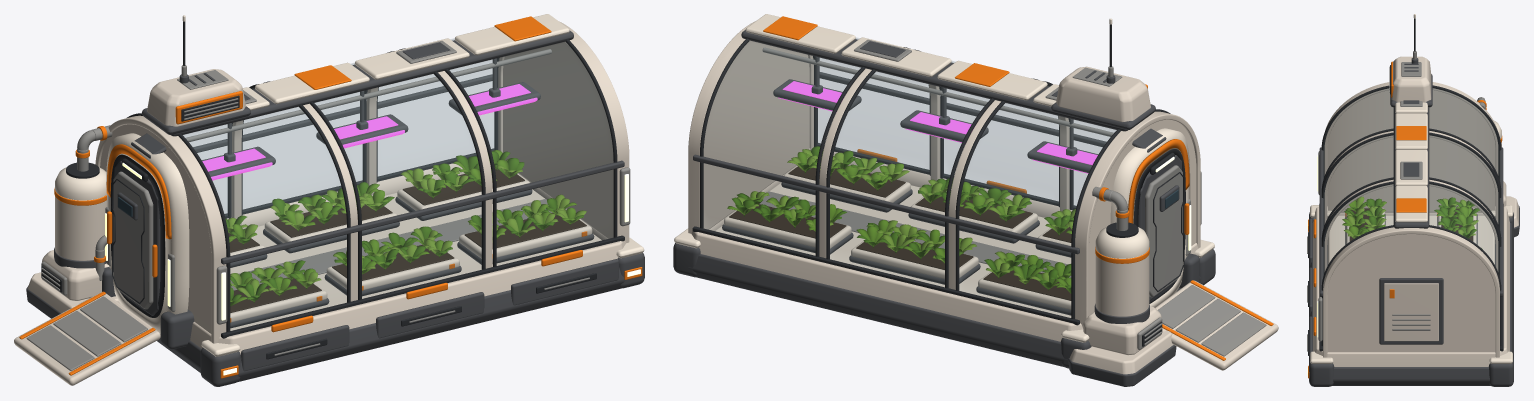
File: greenhouse-reference-module.glb
The picture shows the model from 3 angles, left to right: view 1: azimuth 30°, elevation 25°; view 2: azimuth 150°, elevation 25°; view 3: azimuth 270°, elevation 25°; orthographic projection. The views are drawn at different scales.
Visible parts, largest first — view 1: Front bay 2 | continuous curved glazing, Front bay 1 | continuous curved glazing, Front bay 3 | continuous curved glazing, Opaque pressure end cap.001, Ivory greenhouse sill, Rear bay 2 | continuous curved glazing, Rear bay 3 | continuous curved glazing, Graphite greenhouse foundation, Interior raised greenhouse floor, Airlock ivory rounded surround, Airlock titanium door leaf, Opaque pressure end cap (+69 smaller); view 2: Rear bay 2 | continuous curved glazing, Rear bay 1 | continuous curved glazing, Rear bay 3 | continuous curved glazing, Opaque pressure end cap.001, Ivory greenhouse sill, Graphite greenhouse foundation, Front bay 2 | continuous curved glazing, Front bay 3 | continuous curved glazing, Interior raised greenhouse floor, Ivory arched frame rib, Airlock titanium door leaf, Roof HVAC chamfered ivory enclosure (+65 smaller); view 3: Opaque pressure end cap.001, Opaque pressure end cap, Ivory greenhouse sill, Graphite greenhouse foundation, Rear ivory access panel, Front bay 2 | continuous curved glazing, Rear bay 2 | continuous curved glazing, Front bay 3 | continuous curved glazing, Rear bay 3 | continuous curved glazing, Rear bay 1 | continuous curved glazing, Front bay 1 | continuous curved glazing, Ivory arched frame rib.003 (+36 smaller).
Boxes of the visible parts, <box> form: Front bay 2 | continuous curved glazing: <box>315,74,481,298</box>; Front bay 1 | continuous curved glazing: <box>183,107,346,330</box>; Front bay 3 | continuous curved glazing: <box>450,42,612,265</box>; Opaque pressure end cap.001: <box>503,35,625,238</box>; Ivory greenhouse sill: <box>190,163,625,354</box>; Rear bay 2 | continuous curved glazing: <box>243,63,362,210</box>; Rear bay 3 | continuous curved glazing: <box>378,39,493,178</box>; Graphite greenhouse foundation: <box>157,267,628,382</box>; Interior raised greenhouse floor: <box>230,189,601,330</box>; Airlock ivory rounded surround: <box>106,133,189,333</box>; Airlock titanium door leaf: <box>113,171,153,309</box>; Opaque pressure end cap: <box>100,116,222,339</box>; Rear bay 2 | continuous curved glazing: <box>830,72,989,286</box>; Rear bay 1 | continuous curved glazing: <box>959,103,1115,317</box>; Rear bay 3 | continuous curved glazing: <box>704,41,859,254</box>; Opaque pressure end cap.001: <box>691,35,809,229</box>; Ivory greenhouse sill: <box>691,148,1198,341</box>; Graphite greenhouse foundation: <box>688,254,1200,366</box>; Front bay 2 | continuous curved glazing: <box>944,61,1058,202</box>; Front bay 3 | continuous curved glazing: <box>818,38,928,171</box>; Interior raised greenhouse floor: <box>715,182,1071,317</box>; Ivory arched frame rib: <box>1075,111,1200,328</box>; Airlock titanium door leaf: <box>1145,165,1182,297</box>; Roof HVAC chamfered ivory enclosure: <box>1056,66,1150,122</box>; Opaque pressure end cap.001: <box>1324,228,1498,352</box>; Opaque pressure end cap: <box>1327,83,1495,212</box>; Ivory greenhouse sill: <box>1313,206,1509,366</box>; Graphite greenhouse foundation: <box>1310,223,1513,385</box>; Rear ivory access panel: <box>1384,283,1438,341</box>; Front bay 2 | continuous curved glazing: <box>1324,135,1392,224</box>; Rear bay 2 | continuous curved glazing: <box>1430,135,1498,224</box>; Front bay 3 | continuous curved glazing: <box>1324,184,1392,272</box>; Rear bay 3 | continuous curved glazing: <box>1430,184,1498,272</box>; Rear bay 1 | continuous curved glazing: <box>1430,88,1498,175</box>; Front bay 1 | continuous curved glazing: <box>1324,88,1392,175</box>; Ivory arched frame rib.003: <box>1323,227,1499,357</box>.
Size of the model in its own units: 13.54 by 7.56 by 6.25.
